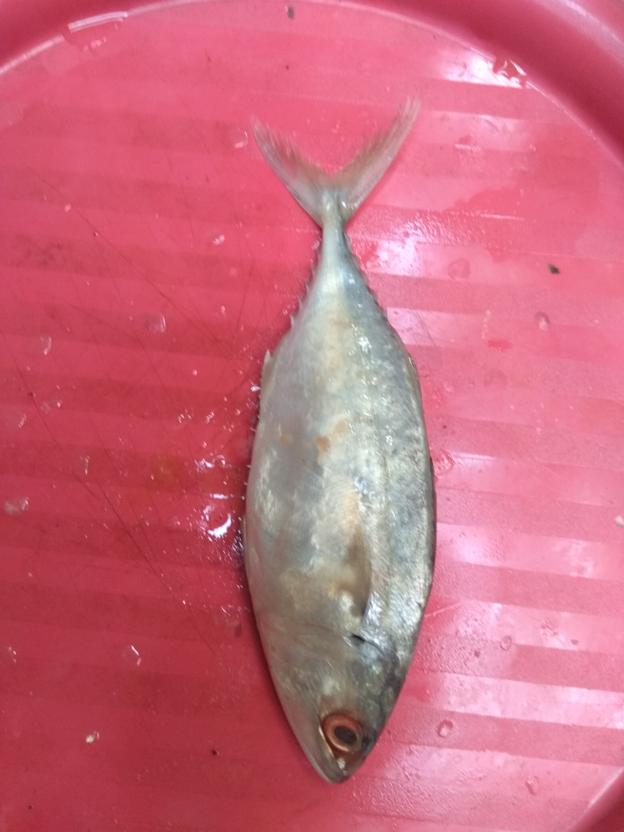Fish head: (256, 622, 408, 788)
Fish tail: (250, 92, 426, 230)
